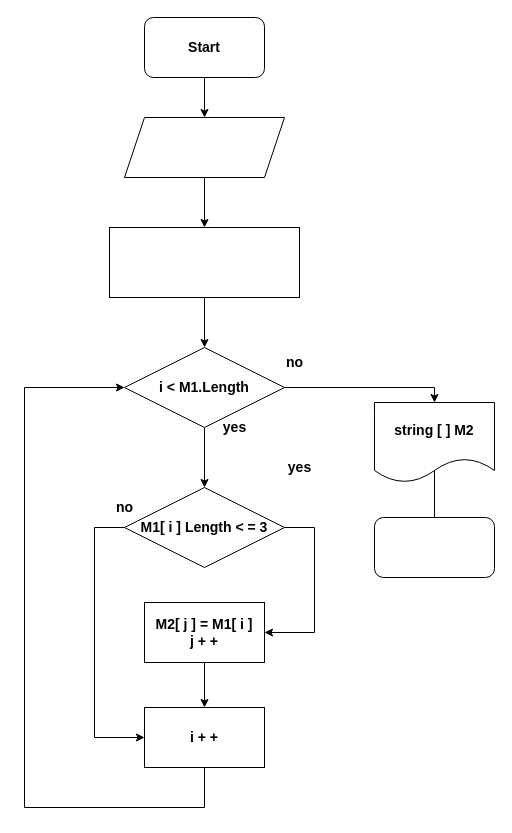
Image size: 512x833. Some labels were removed from this diagram. Here are the shapes that lost their labels. From the top down, the centre of each, then its label:
[204,147]: string [ ] M1
[204,262]: string [ ] M2 = 0 M2.Length = M1.Length i = 0 j = 0
[434,547]: Stop
